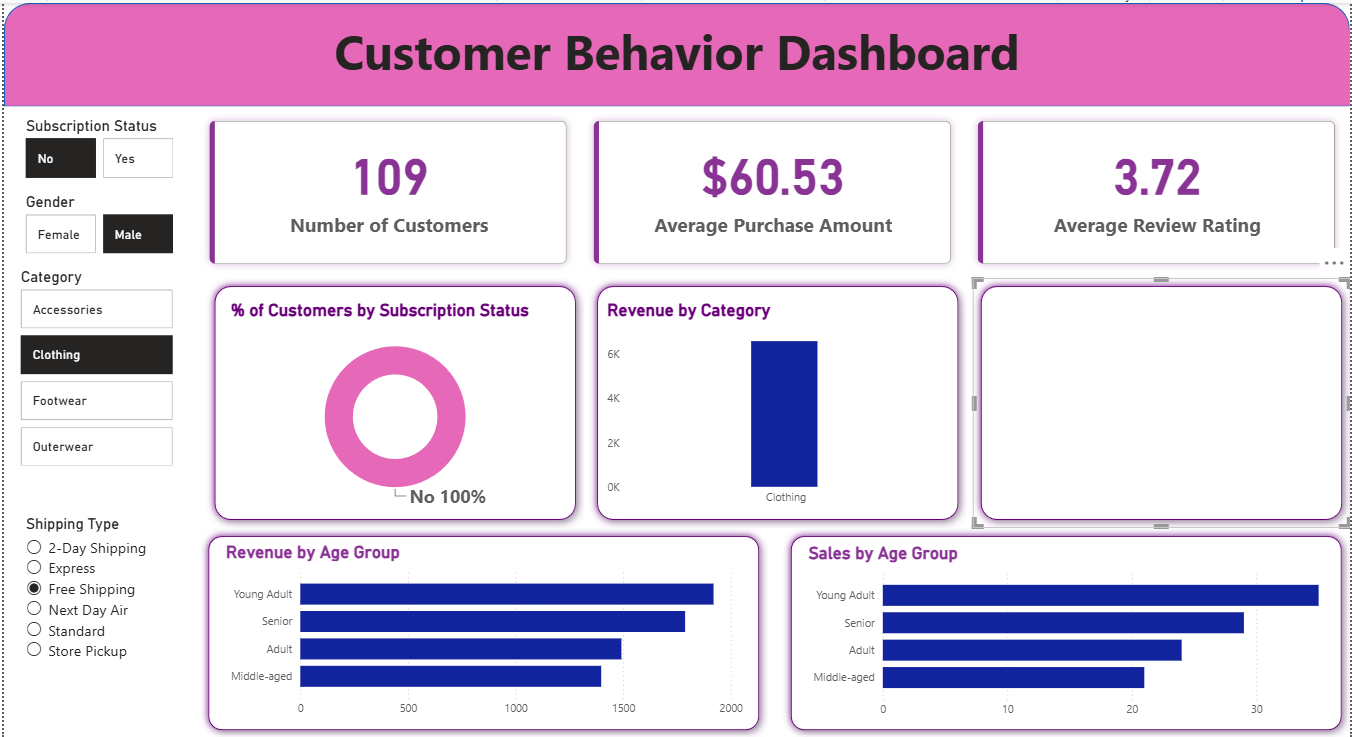

This screenshot's page, from the dashboard's own definition file:
{"tool":"powerbi","page":{"name":"Page 1","canvas":[1500,820],"ordinal":0},"visuals":[{"type":"cardVisual","fields":{"Data":["public customer.Number of Customers","public customer.Average Purchase Amount","public customer.Average Review Rating"]},"box":[212.9,115.3,1286.5,191.6],"z":2000},{"type":"shape","box":[218.3,585.6,631.7,234.2],"z":2500,"group":"g1"},{"type":"shape","box":[0,0,1499.4,115.3],"z":3000},{"type":"textbox","box":[0,12.4,1499.4,102.9],"z":4000},{"type":"shape","box":[225.4,307,420.5,278.6],"z":5000},{"type":"donutChart","title":"% of Customers by Subscription Status","fields":{"Category":["public customer.subscription_status"],"Y":["CountNonNull(public customer.customer_id)"]},"box":[248.4,331.8,376.2,237.8],"z":6000},{"type":"shape","box":[1078.9,307,420.5,278.6],"z":7000},{"type":"shape","box":[652.1,307,420.5,278.6],"z":8000},{"type":"clusteredColumnChart","title":"Revenue by Category","fields":{"Category":["public customer.category"],"Y":["Sum(public customer.purchase_amount)"]},"box":[667.2,331.8,385.1,237.8],"z":9000},{"type":"clusteredColumnChart","title":"Sales by Category","fields":{"Category":["public customer.category"],"Y":["CountNonNull(public customer.customer_id)"]},"box":[1096.6,331.8,385.1,237.8],"z":10000},{"type":"advancedSlicerVisual","fields":{"Values":["public customer.subscription_status"]},"box":[19.5,126.7,174.1,73.8],"z":12000},{"type":"advancedSlicerVisual","fields":{"Values":["public customer.gender"]},"box":[19.5,211.7,174.1,72.4],"z":13000},{"type":"advancedSlicerVisual","fields":{"Values":["public customer.category"]},"box":[13.9,295.2,179.7,228.4],"z":14000},{"type":"listSlicer","fields":{"Values":["public customer.shipping_type"]},"box":[19.5,569.6,168.6,220],"z":15000},{"type":"shape","box":[867.7,585.6,631.7,234.2],"z":16000},{"type":"clusteredBarChart","title":"Sales by Age Group","fields":{"Category":["public customer.age_group"],"Y":["CountNonNull(public customer.customer_id)"]},"box":[890.8,601.5,585.6,204.1],"z":17000},{"type":"clusteredBarChart","title":"Revenue by Age Group","fields":{"Category":["public customer.age_group"],"Y":["Sum(public customer.purchase_amount)"]},"box":[241.4,601.6,585.6,204.1],"z":17500,"group":"g1"},{"type":"group","id":"g1","title":"Group 1","box":[218.3,585.6,631.7,234.2],"z":17501}]}

Visuals, with their boxes in screenshot pixels (x1, y1, x2, y2), scaled from the page's 1500x820 canvas onto the 1352x737 screenshot:
cardVisual - public customer.Number of Customers x public customer.Average Purchase Amount: pyautogui.locateOnScreen(192, 104, 1351, 276)
shape: pyautogui.locateOnScreen(197, 526, 766, 736)
shape: pyautogui.locateOnScreen(0, 0, 1351, 104)
textbox: pyautogui.locateOnScreen(0, 11, 1351, 104)
shape: pyautogui.locateOnScreen(203, 276, 582, 526)
"% of Customers by Subscription Status" donutChart: pyautogui.locateOnScreen(224, 298, 563, 512)
shape: pyautogui.locateOnScreen(972, 276, 1351, 526)
shape: pyautogui.locateOnScreen(588, 276, 967, 526)
"Revenue by Category" clusteredColumnChart: pyautogui.locateOnScreen(601, 298, 948, 512)
"Sales by Category" clusteredColumnChart: pyautogui.locateOnScreen(988, 298, 1336, 512)
advancedSlicerVisual - public customer.subscription_status: pyautogui.locateOnScreen(18, 114, 174, 180)
advancedSlicerVisual - public customer.gender: pyautogui.locateOnScreen(18, 190, 174, 255)
advancedSlicerVisual - public customer.category: pyautogui.locateOnScreen(13, 265, 174, 471)
listSlicer - public customer.shipping_type: pyautogui.locateOnScreen(18, 512, 170, 710)
shape: pyautogui.locateOnScreen(782, 526, 1351, 736)
"Sales by Age Group" clusteredBarChart: pyautogui.locateOnScreen(803, 541, 1331, 724)
"Revenue by Age Group" clusteredBarChart: pyautogui.locateOnScreen(218, 541, 745, 724)
"Group 1" group: pyautogui.locateOnScreen(197, 526, 766, 736)
